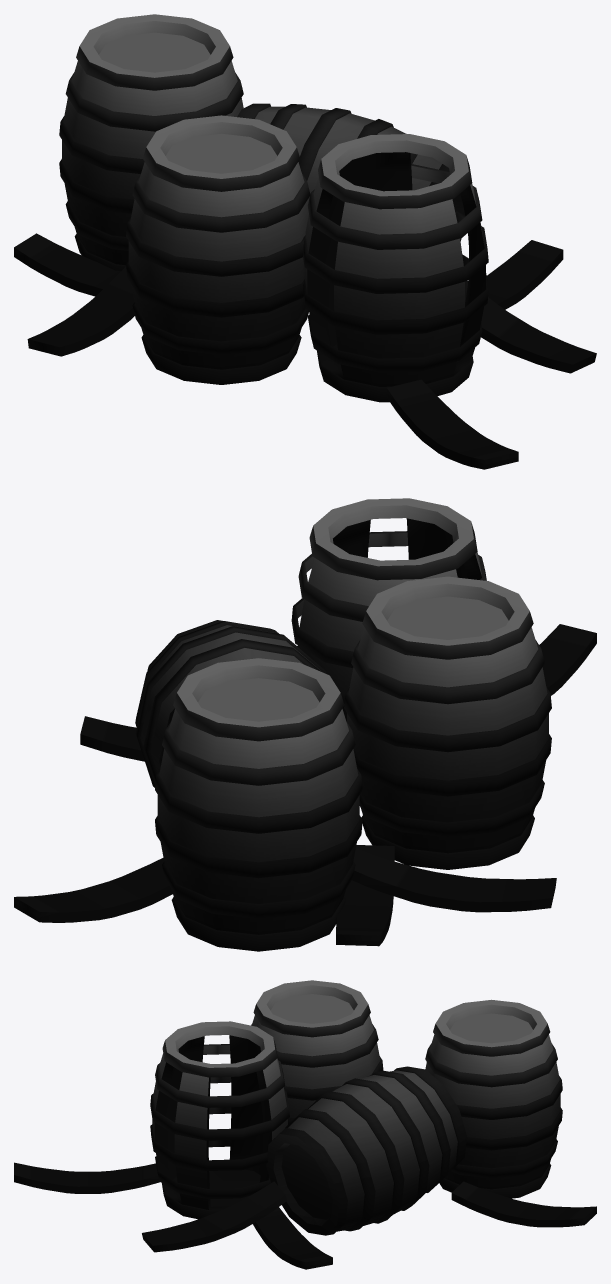
File: Cover4.glb
The picture shows the model from 3 angles, top to bottom: view 1: azimuth 30°, elevation 25°; view 2: azimuth 150°, elevation 25°; view 3: azimuth 270°, elevation 25°; orthographic projection. The views are drawn at different scales.
Parts seen in each view (by area): view 1: Cover4; view 2: Cover4; view 3: Cover4.
Part boxes in pixels (x1,y1,x2,y2): Cover4: (14, 14, 596, 469); Cover4: (14, 498, 596, 951); Cover4: (14, 980, 596, 1269).
Size of what is drawn, in the model's own units: 5.06 by 2.12 by 7.1.
1 material, 1 textured.
